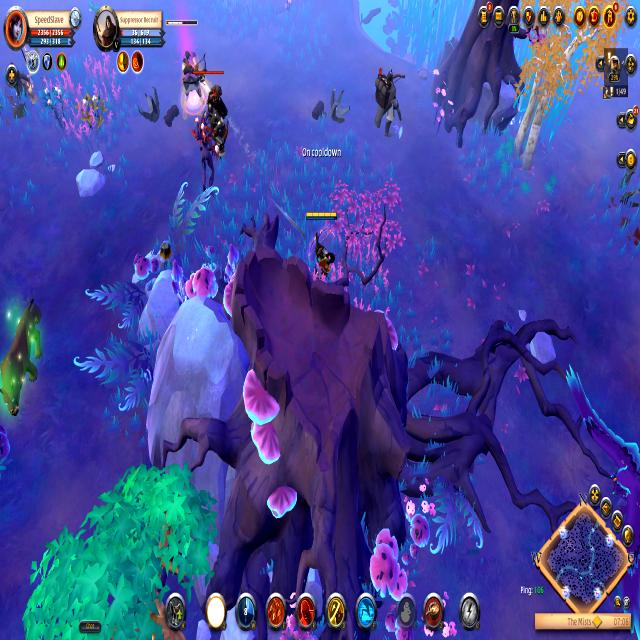hide: (40, 80, 73, 132), (78, 91, 107, 133)
ore: (0, 290, 51, 420), (191, 60, 239, 165), (166, 14, 205, 103), (369, 60, 409, 141), (192, 111, 215, 204)
red: (303, 207, 340, 284)
wisp caged: (14, 458, 220, 640), (507, 0, 631, 183)
